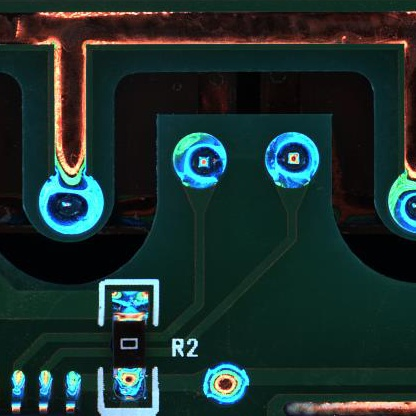spot: (38, 174, 103, 235), (167, 132, 230, 189), (264, 130, 320, 188), (202, 363, 254, 405)
